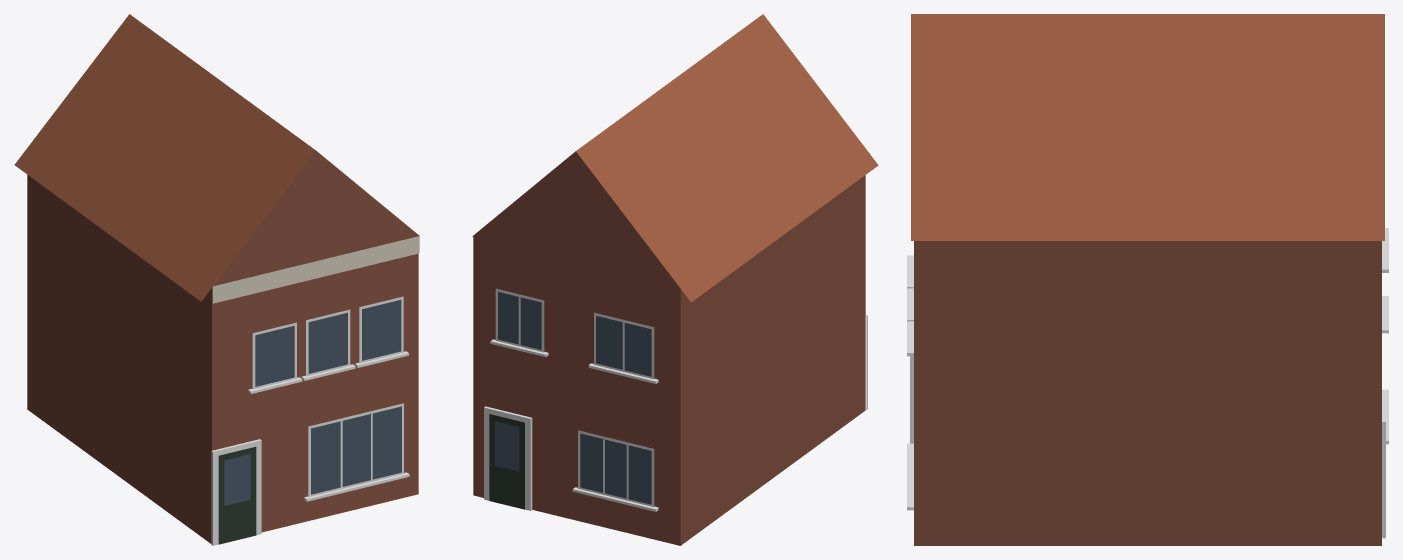
The model's file is nd-bz-brick-row__green-door__2__gable__short__solid.glb.
3 renders of one model, left to right at view 1: azimuth 30°, elevation 25°; view 2: azimuth 150°, elevation 25°; view 3: azimuth 270°, elevation 25°, orthographic. The views are drawn at different scales.
Parts seen in each view (by area): view 1: nd-bz-brick-row__green-door__2__gable__short__solid; view 2: nd-bz-brick-row__green-door__2__gable__short__solid; view 3: nd-bz-brick-row__green-door__2__gable__short__solid.
Part boxes in pixels (x1,y1,x2,y2): nd-bz-brick-row__green-door__2__gable__short__solid: (14, 14, 419, 545); nd-bz-brick-row__green-door__2__gable__short__solid: (472, 14, 878, 545); nd-bz-brick-row__green-door__2__gable__short__solid: (907, 14, 1388, 545).
Bounding box in the file's own units: 5.83 × 8.93 × 8.33.
